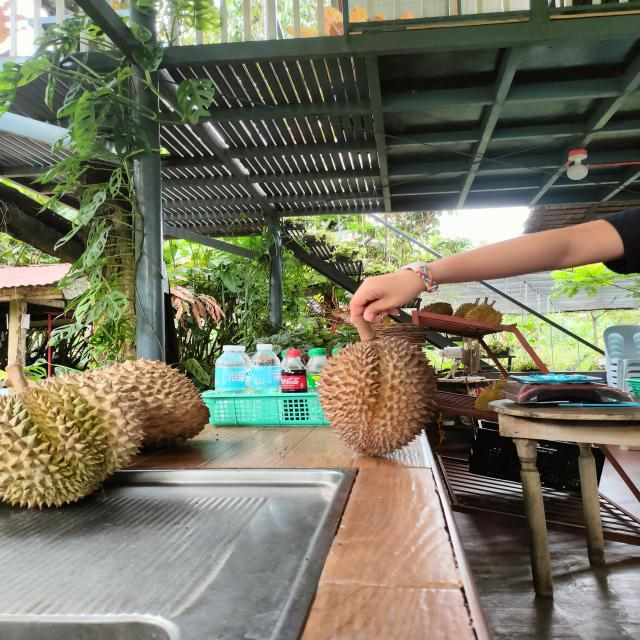mature: (318, 338, 437, 456), (92, 359, 210, 445)
